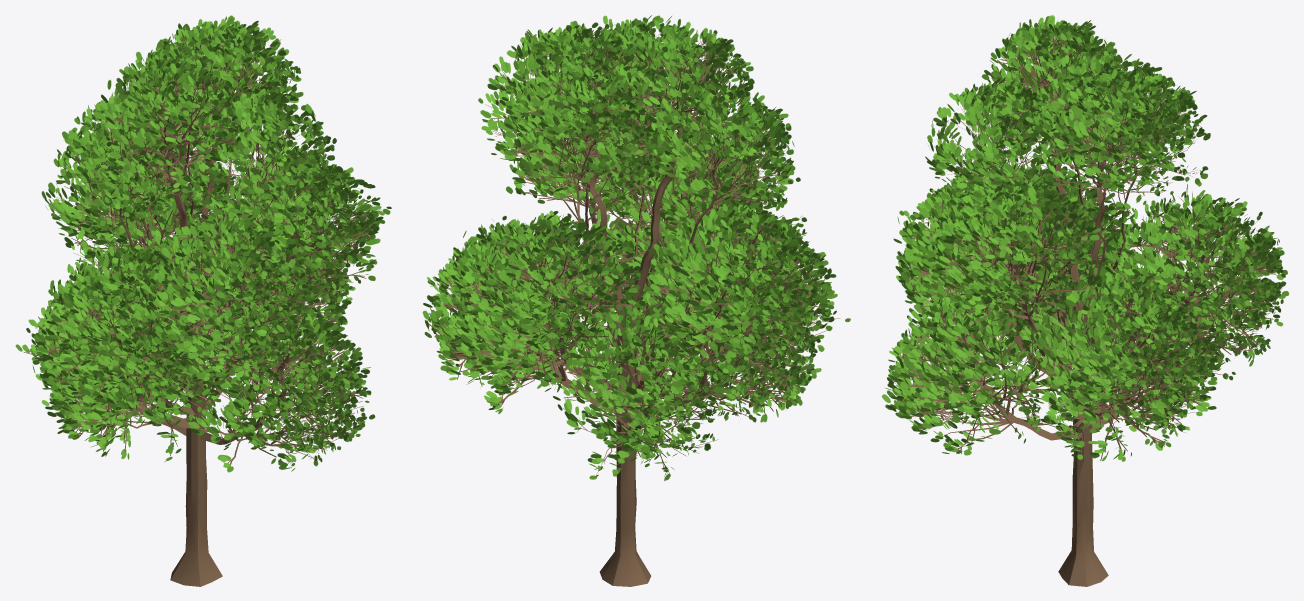
The model's file is stylized_tree-5352a2ee.glb.
3 views of the same model, side by side, from view 1: azimuth 30°, elevation 25°; view 2: azimuth 150°, elevation 25°; view 3: azimuth 270°, elevation 25° (orthographic). The views are drawn at different scales.
Visible parts, largest first — view 1: oak 01_leafes_Mat.001_0, oak 01.001_trunk_Mat.001_0; view 2: oak 01_leafes_Mat.001_0, oak 01.001_trunk_Mat.001_0; view 3: oak 01_leafes_Mat.001_0, oak 01.001_trunk_Mat.001_0.
Part boxes in pixels (x1,y1,x2,y2): oak 01_leafes_Mat.001_0: [15, 15, 391, 472]; oak 01.001_trunk_Mat.001_0: [23, 32, 382, 586]; oak 01_leafes_Mat.001_0: [422, 15, 850, 481]; oak 01.001_trunk_Mat.001_0: [429, 28, 840, 586]; oak 01_leafes_Mat.001_0: [882, 15, 1288, 461]; oak 01.001_trunk_Mat.001_0: [890, 32, 1281, 586].
Size of the model in its own units: 0.3678 by 0.564 by 0.389.
2 materials, 1 textured.
